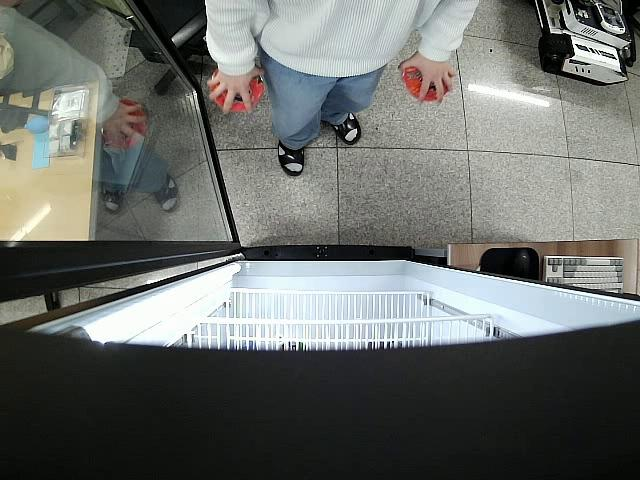00_hand: (397, 51, 457, 106), (202, 69, 266, 113)
01_shinRamen_L: (208, 69, 265, 113), (402, 67, 450, 103)
